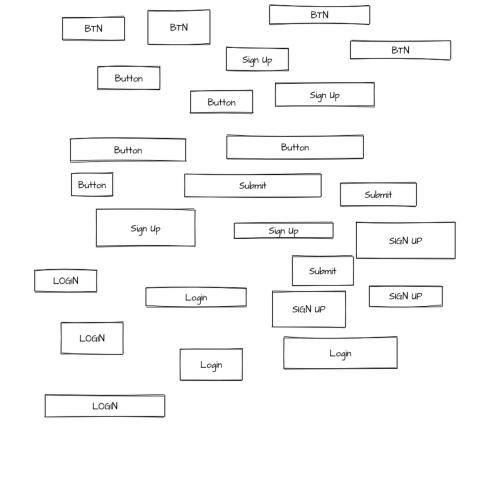Button: (94, 208, 198, 251), (355, 221, 458, 262), (283, 335, 400, 371), (226, 134, 367, 162), (183, 173, 324, 200), (43, 392, 167, 421), (68, 136, 188, 165), (270, 289, 348, 330), (274, 81, 378, 110), (348, 38, 454, 64), (60, 320, 128, 359), (145, 286, 249, 311), (146, 9, 212, 48), (269, 4, 374, 28), (179, 348, 244, 384), (339, 181, 420, 209), (232, 221, 335, 243), (291, 253, 355, 288), (368, 283, 446, 311), (225, 44, 292, 74), (60, 15, 128, 44), (96, 65, 163, 92), (33, 269, 100, 296), (189, 89, 255, 116), (70, 172, 116, 199)
